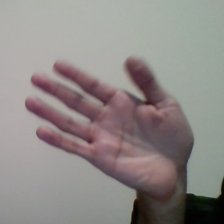left: (17, 44, 200, 195)
